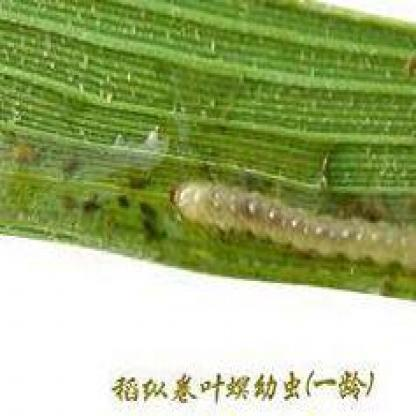leaf-folder: (140, 128, 416, 321)
